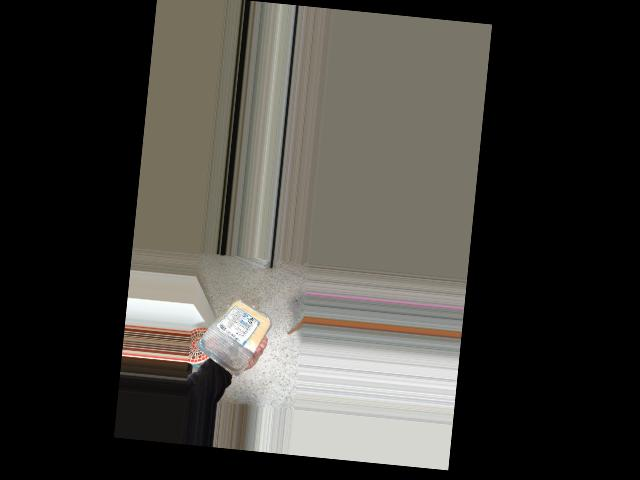cheese: (196, 290, 266, 373)
